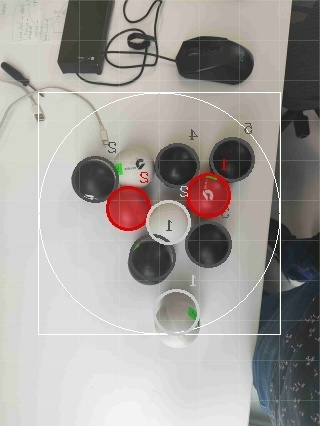Pelota blanca: (154, 286, 201, 336), (146, 198, 191, 246), (114, 145, 156, 187), (122, 0, 156, 22)
Pelota negra: (175, 33, 257, 86), (127, 236, 177, 286), (183, 220, 233, 270), (207, 134, 257, 182), (71, 156, 119, 203), (154, 142, 201, 187)
Pelota roja: (106, 182, 153, 232), (186, 172, 233, 219)
